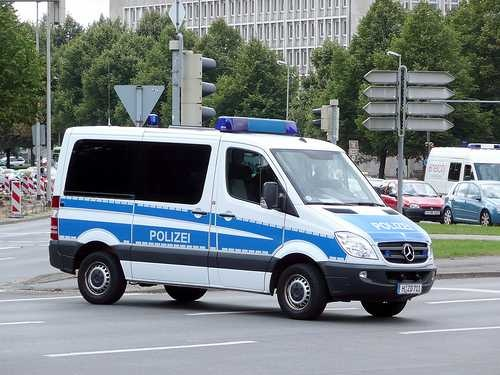Police Van: (44, 108, 448, 341)
